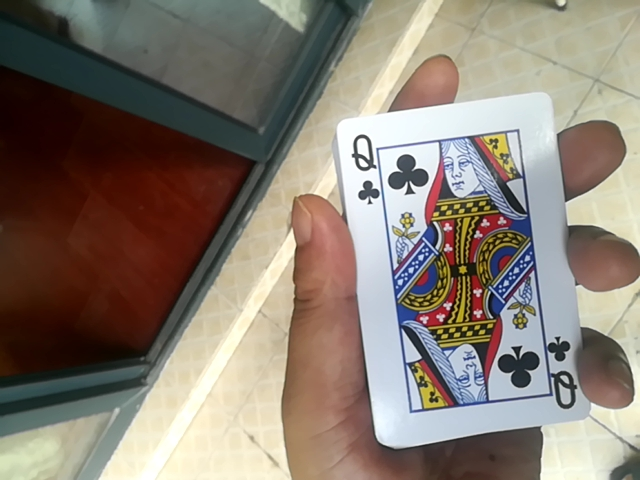mh q: (346, 78, 613, 469)
